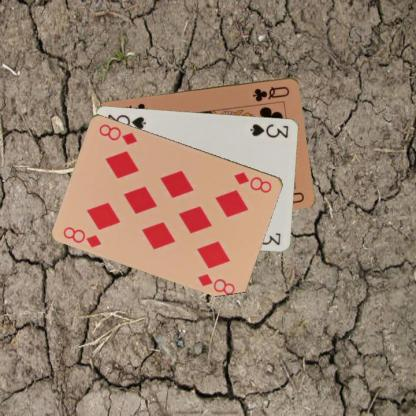3s: (248, 122, 289, 140)
8d: (232, 169, 273, 194), (61, 224, 103, 248)
Qc: (250, 83, 291, 103)
